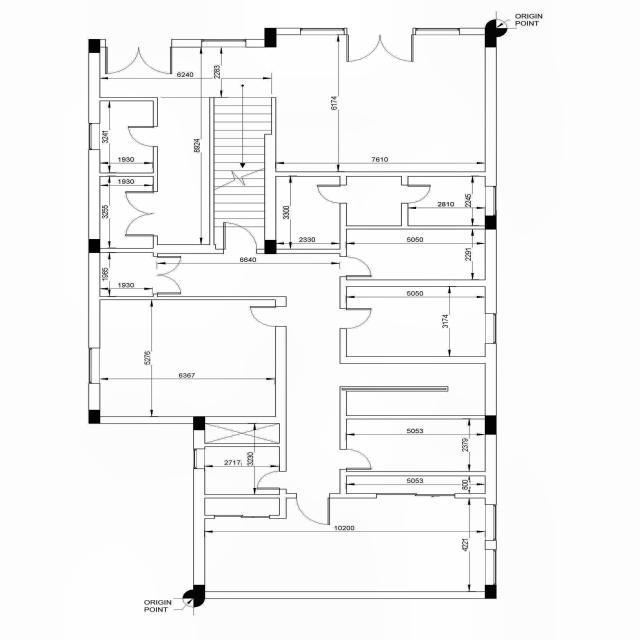Column: (264, 28, 276, 48), (484, 28, 496, 48), (484, 416, 496, 434), (484, 585, 496, 599), (193, 584, 205, 598), (484, 216, 496, 230), (264, 240, 276, 254), (193, 416, 205, 430), (89, 239, 100, 253), (89, 39, 100, 53), (89, 410, 100, 424)
Door: (223, 222, 257, 254), (297, 493, 330, 525), (250, 306, 286, 326), (339, 257, 372, 277), (339, 308, 372, 328), (339, 450, 372, 470), (128, 126, 158, 146), (317, 185, 347, 203), (256, 471, 286, 489), (402, 185, 431, 203)
Double-Door: (105, 39, 172, 74), (346, 28, 414, 62), (126, 192, 158, 236), (152, 256, 182, 294)
Sliding Door: (376, 494, 455, 498), (214, 515, 270, 519)
Window: (214, 98, 272, 254), (202, 38, 246, 48), (484, 549, 496, 585), (484, 504, 496, 540), (89, 348, 100, 384), (484, 313, 496, 344), (484, 186, 496, 216), (415, 28, 460, 35), (300, 28, 344, 35), (89, 123, 100, 150), (193, 448, 206, 469)
